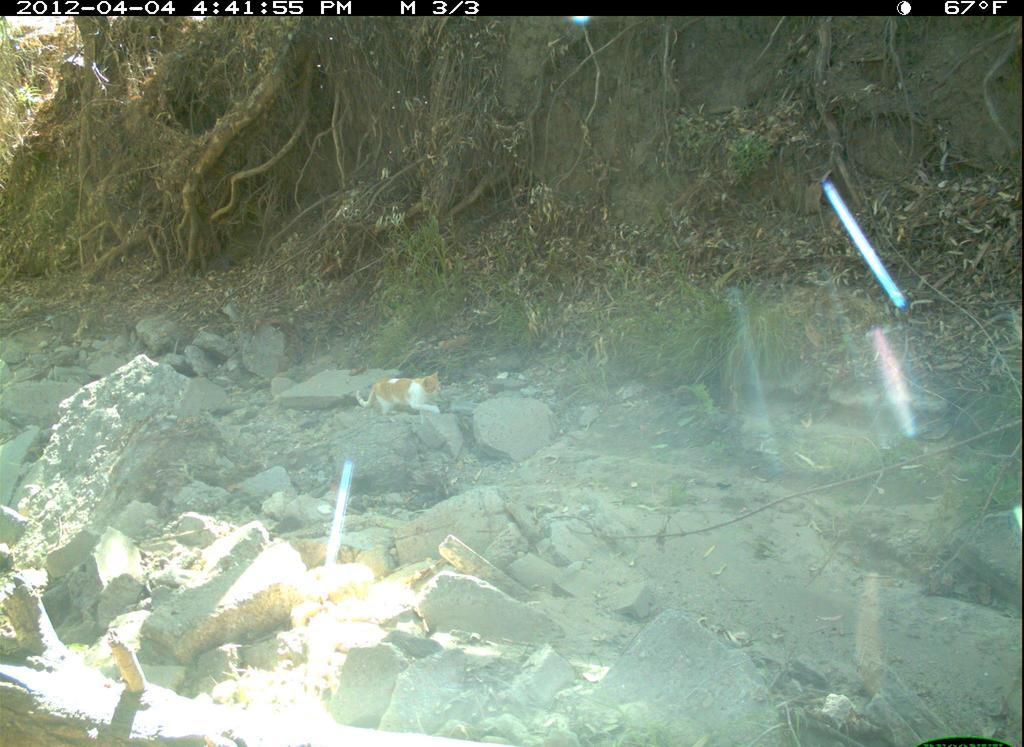cat: (353, 358, 469, 431)
